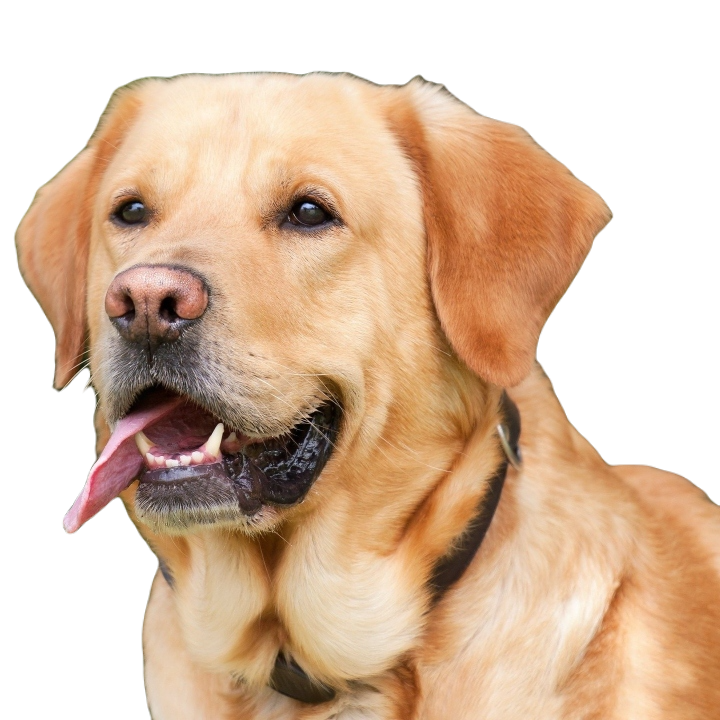Dog: (13, 67, 719, 719)
